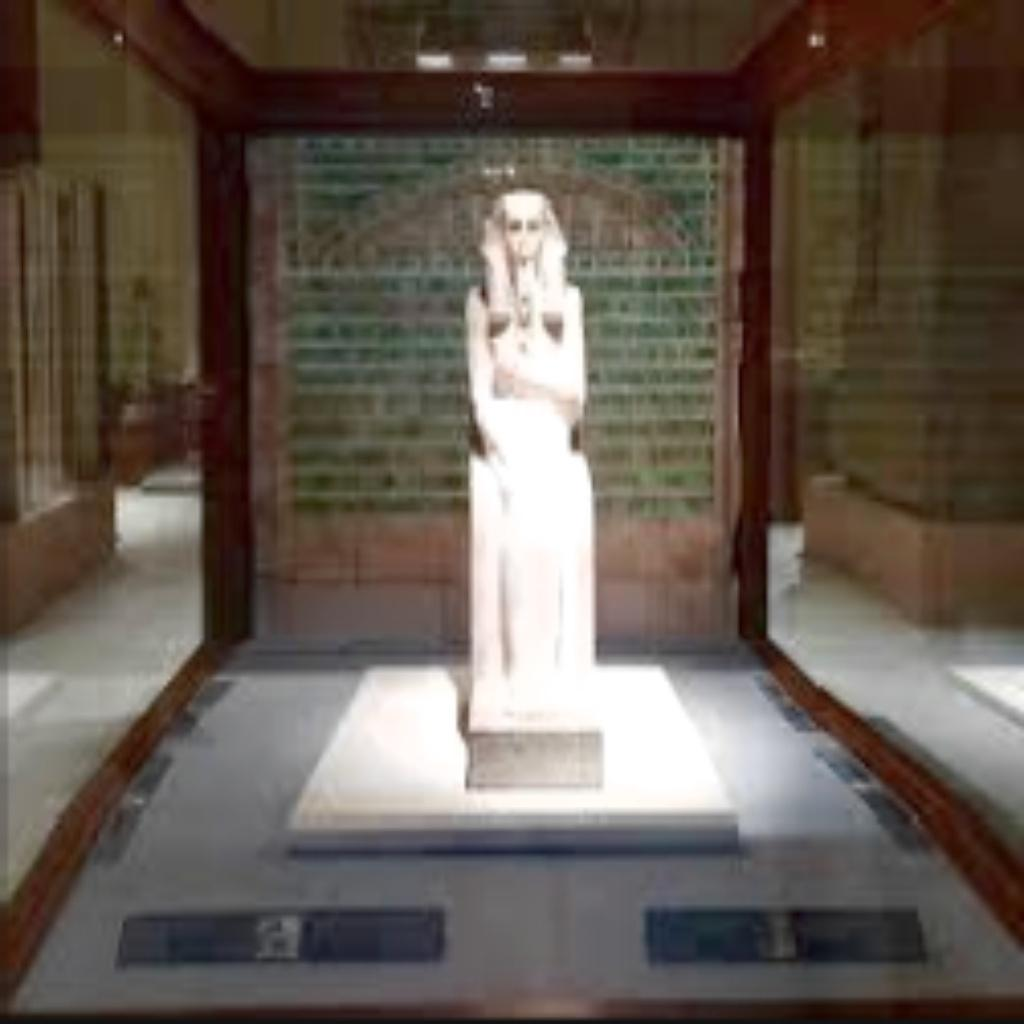Statue of King Zoser: (457, 179, 608, 737)
